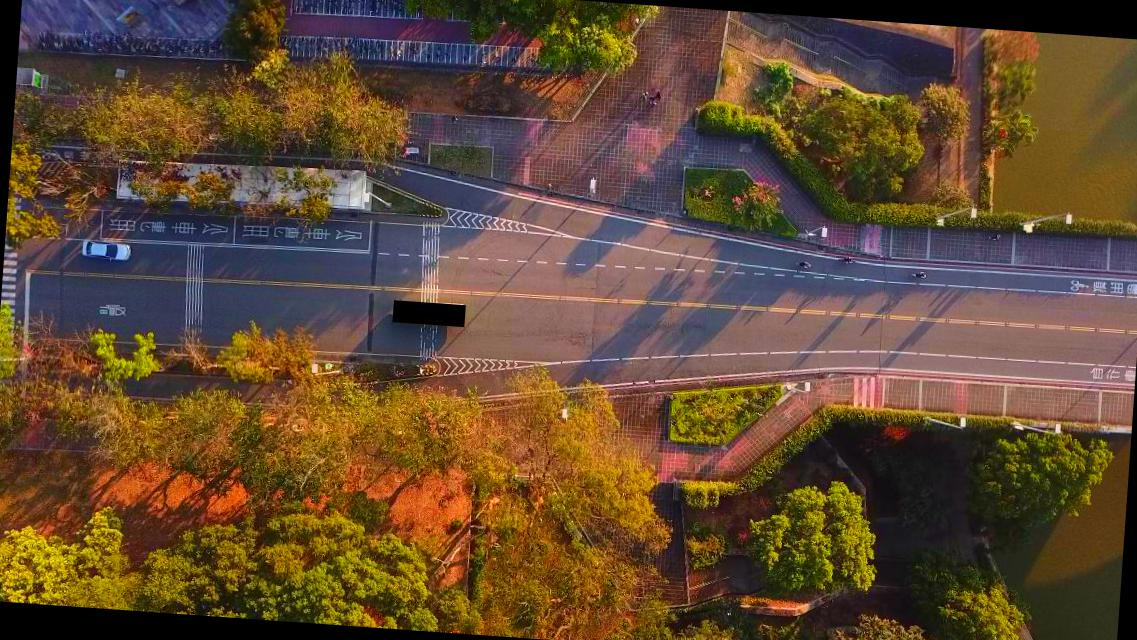vehicle: (79, 240, 129, 261)
